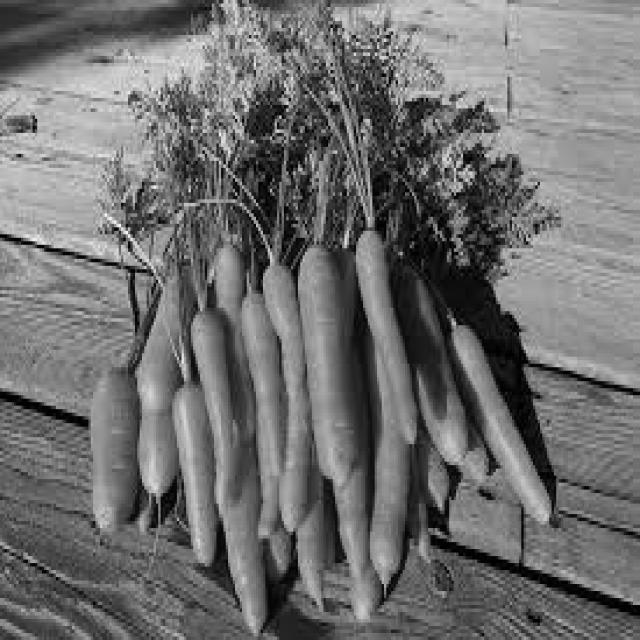Fresh_Carrot: (109, 278, 524, 588)
